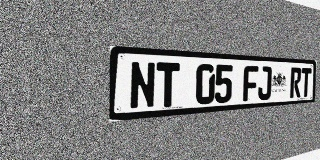0: (195, 64, 215, 105)
5: (215, 64, 233, 103)
F: (243, 65, 258, 101)
J: (258, 66, 272, 100)
N: (129, 61, 156, 110)
R: (290, 67, 301, 98)
T: (156, 62, 180, 108), (301, 68, 311, 97)
